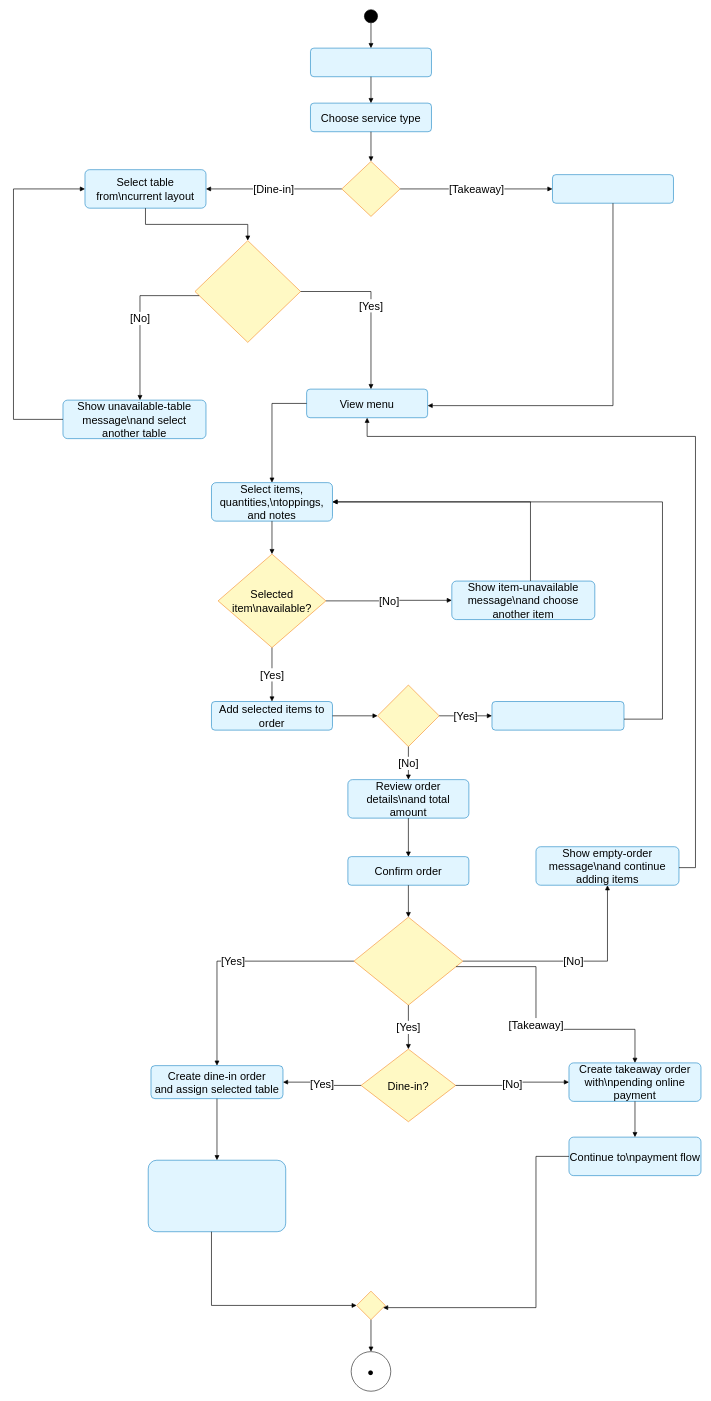
Some shapes in this 711 by 1401 pixel diagram are drawn without their labels. The shapes that lost their labels are listed below. From the top down, each one's box as (x1, y1, x2, y2) in pixels, then its label:
(310, 48, 431, 77): Open create in-store order
(341, 161, 400, 216): Service type?
(552, 174, 673, 203): Skip table assignment
(194, 240, 301, 342): Table available for\nassignment?
(377, 684, 439, 747): Add more items?
(491, 701, 624, 730): Continue selecting items
(353, 917, 463, 1005): Order contains at least\none item?
(148, 1160, 286, 1232): Update table usage, send kitchen ticket, and show success message
